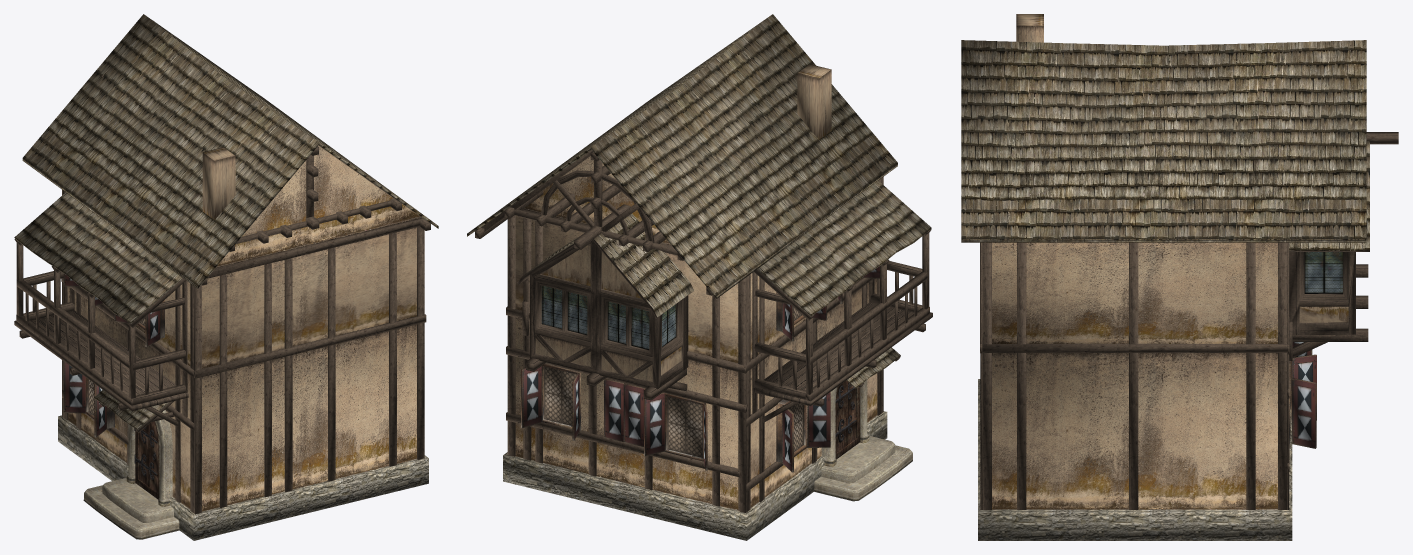
The model's file is house4.dae.
3 views of the same model, side by side, from view 1: azimuth 30°, elevation 25°; view 2: azimuth 150°, elevation 25°; view 3: azimuth 270°, elevation 25° (orthographic). The views are drawn at different scales.
Parts seen in each view (by area): view 1: meshU3D; view 2: meshU3D; view 3: meshU3D.
Part boxes in pixels (bbox=[...]): meshU3D: bbox=[14, 14, 438, 540]; meshU3D: bbox=[467, 14, 932, 540]; meshU3D: bbox=[961, 14, 1398, 540].
Size of the model in its own units: 9.97 by 12.21 by 11.12.
